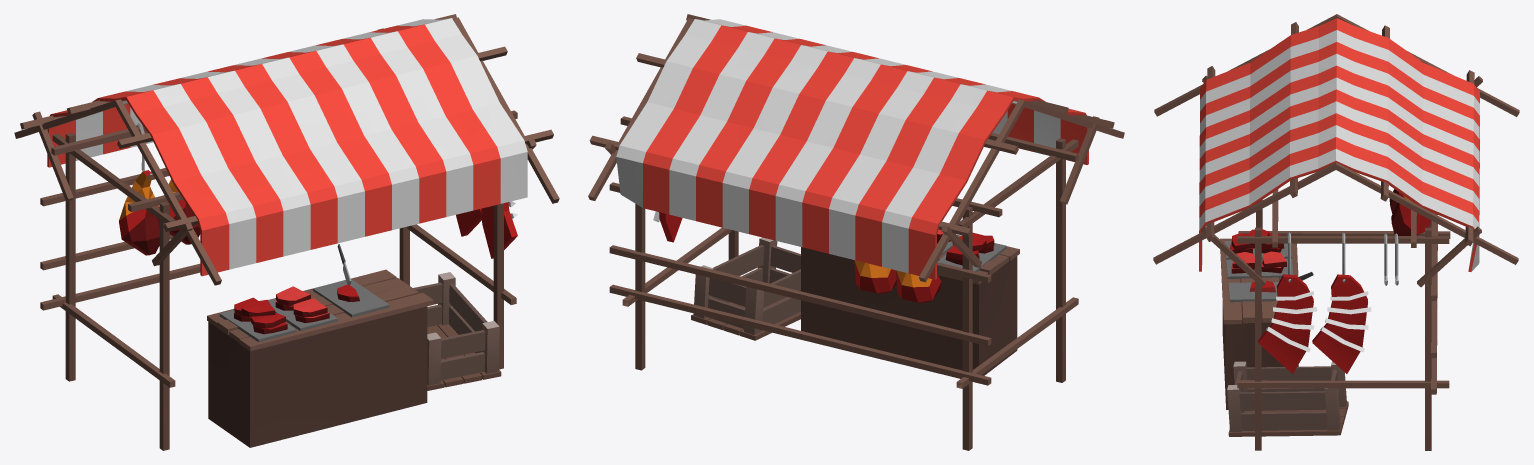
The model's file is village_stall_002.glb.
3 renders of one model, left to right at view 1: azimuth 30°, elevation 25°; view 2: azimuth 150°, elevation 25°; view 3: azimuth 270°, elevation 25°, orthographic. The views are drawn at different scales.
Parts seen in each view (by area): view 1: animal_015; view 2: animal_015; view 3: animal_015.
Part boxes in pixels (x1,y1,x2,y2): animal_015: (14,14,559,450); animal_015: (588,14,1124,450); animal_015: (1153,14,1519,450).
Size of the model in its own units: 7.23 by 5.68 by 6.58.
1 material, 1 textured.
